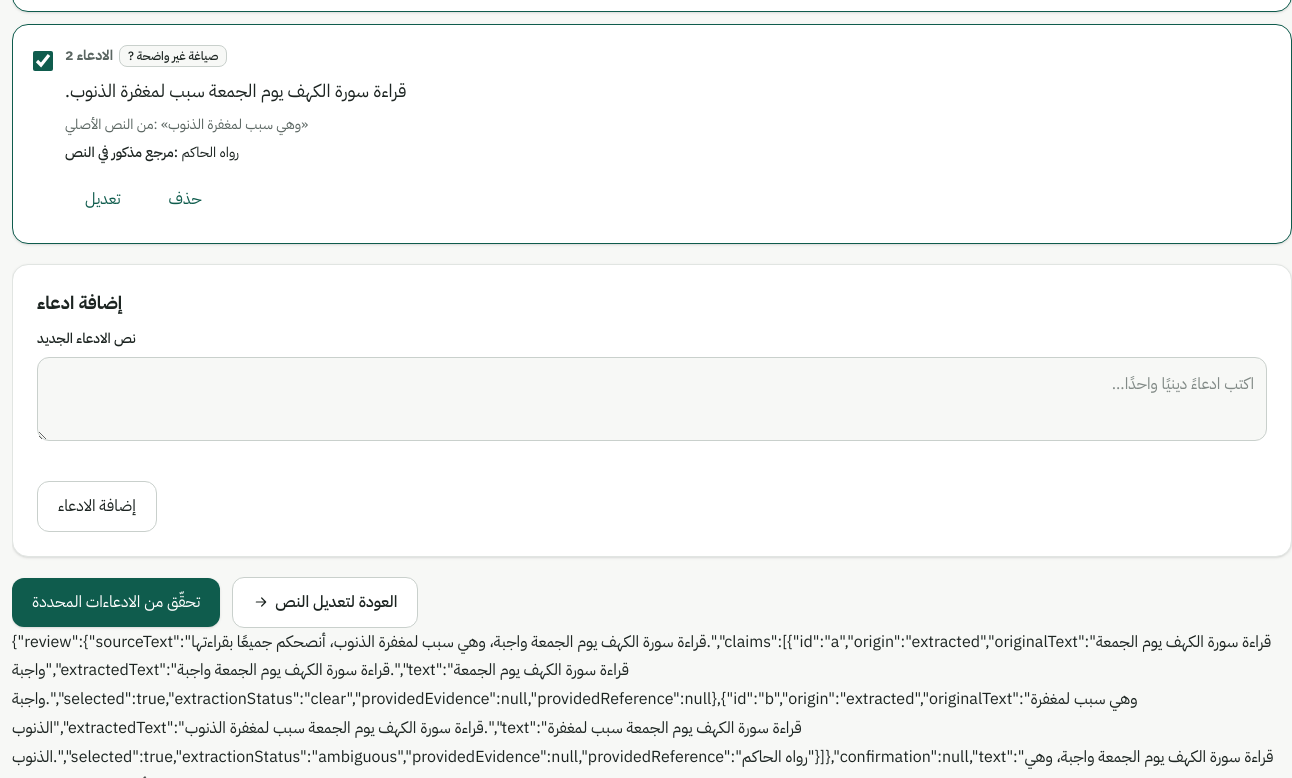
Scenario: Claim Review › confirmation failure is reported as technical and can be retried
(page scrolled)
Click the button "تحقّق من الادعاءات المحددة": (116, 602) x1=12 y1=578 x2=220 y2=627
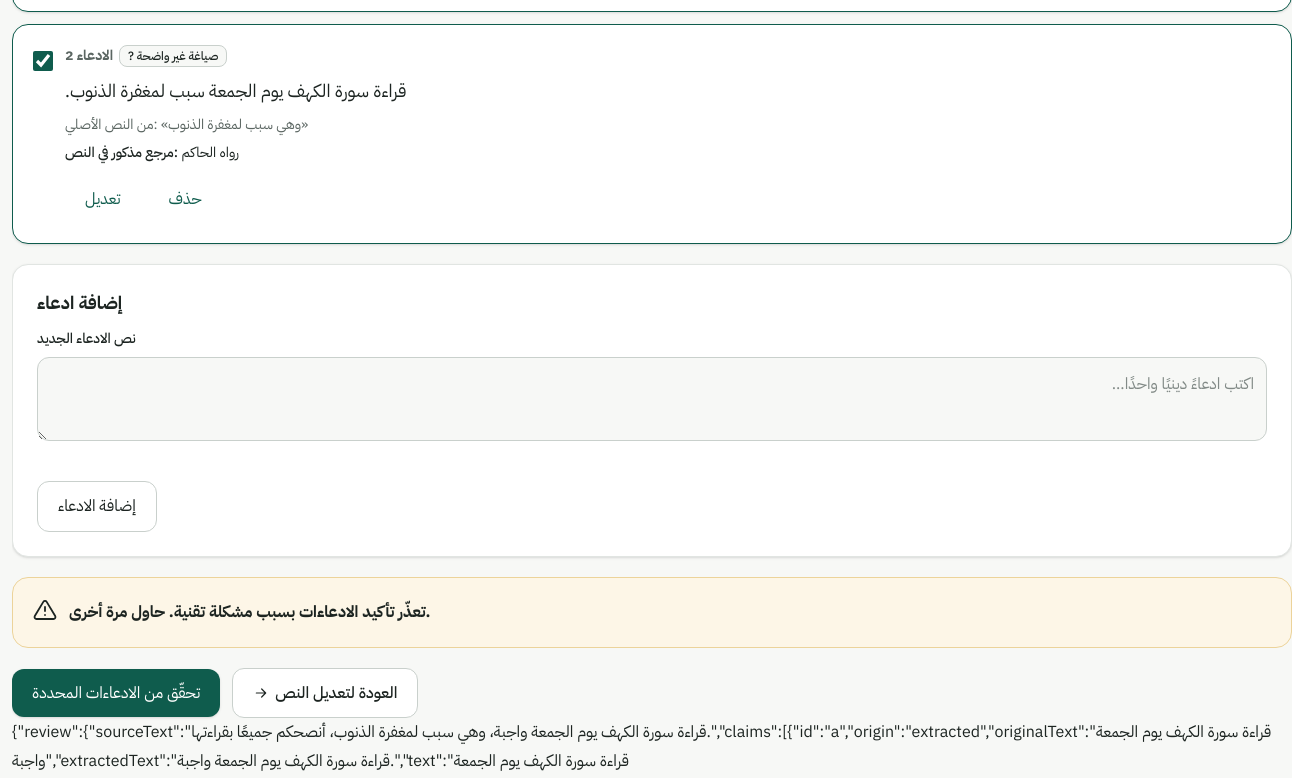
Expected: the text "تعذّر تأكيد الادعاءات بسبب مشكلة تقنية. حاول مرة أخرى." is shown, x1=69 y1=600 x2=430 y2=624
